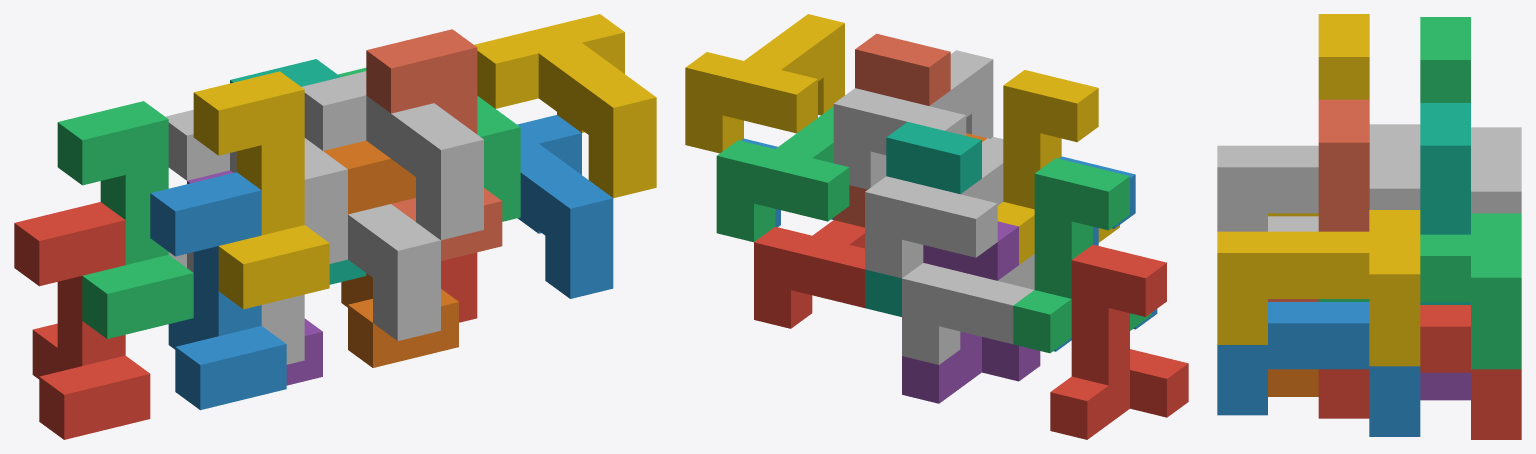
The model's file is tiling.obj.
3 views of the same model, side by side, from view 1: azimuth 30°, elevation 25°; view 2: azimuth 150°, elevation 25°; view 3: azimuth 270°, elevation 25° (orthographic). The views are drawn at different scales.
Parts seen in each view (by area): view 1: copy_1_domain_4, copy_1_domain_1, copy_2_domain_8, copy_1_domain_2, copy_1_domain_3, copy_2_domain_4, copy_2_domain_6, copy_1_domain_8, copy_2_domain_2, copy_1_domain_6, copy_2_domain_3, copy_2_domain_7 (+4 smaller); view 2: copy_1_domain_1, copy_2_domain_8, copy_1_domain_3, copy_2_domain_7, copy_2_domain_3, copy_2_domain_4, copy_1_domain_4, copy_2_domain_1, copy_2_domain_5, copy_1_domain_5, copy_1_domain_7, copy_1_domain_8 (+1 smaller); view 3: copy_2_domain_8, copy_2_domain_6, copy_2_domain_4, copy_2_domain_7, copy_2_domain_5, copy_1_domain_8, copy_1_domain_7, copy_1_domain_4, copy_2_domain_3, copy_1_domain_3, copy_1_domain_5, copy_1_domain_6 (+1 smaller).
Boxes of the visible parts, x1,y1,x2,y2 form: copy_1_domain_4: (193, 71, 329, 309); copy_1_domain_1: (14, 202, 150, 439); copy_2_domain_8: (474, 14, 656, 198); copy_1_domain_2: (150, 172, 286, 410); copy_1_domain_3: (57, 101, 193, 338); copy_2_domain_4: (302, 71, 483, 240); copy_2_domain_6: (517, 115, 613, 298); copy_1_domain_8: (366, 29, 502, 260); copy_2_domain_2: (348, 204, 440, 340); copy_1_domain_6: (323, 140, 458, 367); copy_2_domain_3: (165, 109, 347, 263); copy_2_domain_7: (338, 67, 520, 221); copy_1_domain_1: (1050, 244, 1188, 439); copy_2_domain_8: (685, 14, 844, 153); copy_1_domain_3: (1013, 158, 1151, 353); copy_2_domain_7: (716, 106, 849, 242); copy_2_domain_3: (865, 138, 1003, 278); copy_2_domain_4: (833, 50, 993, 189); copy_1_domain_4: (997, 70, 1119, 264); copy_2_domain_1: (902, 254, 1034, 364); copy_2_domain_5: (754, 220, 864, 328); copy_1_domain_5: (902, 221, 1040, 403); copy_1_domain_7: (865, 122, 981, 316); copy_1_domain_8: (833, 33, 950, 227); copy_2_domain_8: (1217, 210, 1420, 366); copy_2_domain_6: (1217, 302, 1420, 436); copy_2_domain_4: (1217, 124, 1420, 231); copy_2_domain_7: (1318, 213, 1521, 369); copy_2_domain_5: (1318, 305, 1521, 439); copy_1_domain_8: (1268, 99, 1369, 301); copy_1_domain_7: (1420, 103, 1470, 304); copy_1_domain_4: (1268, 14, 1369, 216); copy_2_domain_3: (1471, 127, 1521, 213); copy_1_domain_3: (1420, 17, 1470, 102); copy_1_domain_5: (1420, 372, 1470, 400); copy_1_domain_6: (1268, 369, 1318, 396).
Bounding box in the file's own units: 13 × 7 × 6.
